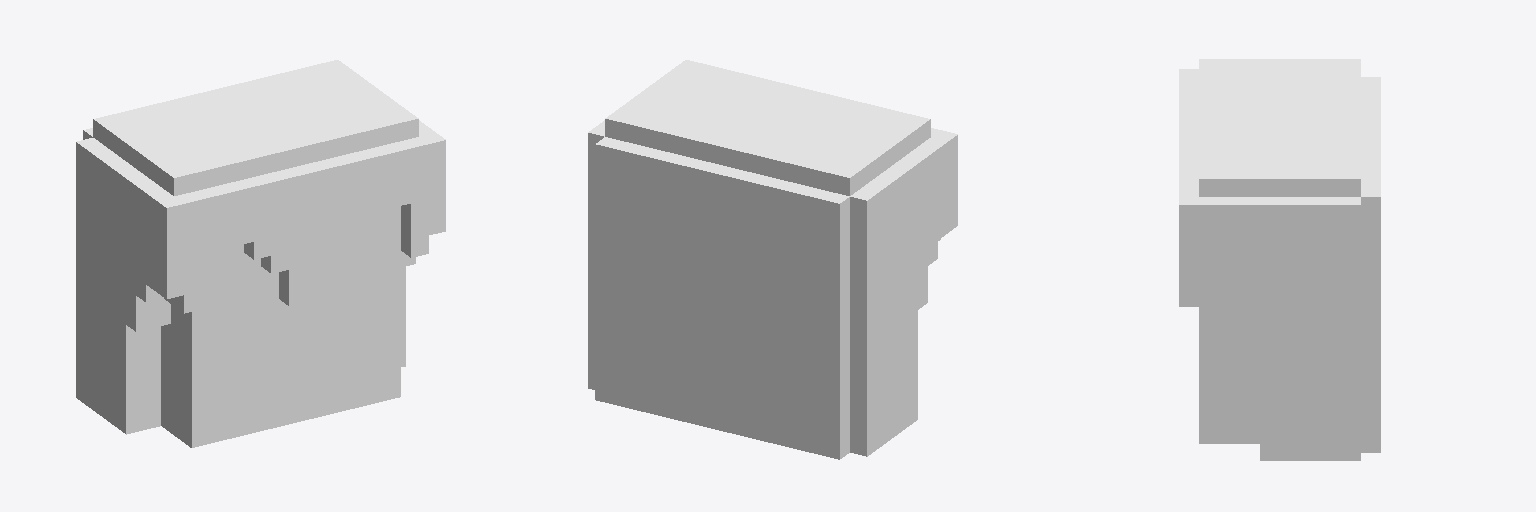
Rendered from cabeza.obj.
3 views of the same model, side by side, from view 1: azimuth 30°, elevation 25°; view 2: azimuth 150°, elevation 25°; view 3: azimuth 270°, elevation 25° (orthographic).
Parts seen in each view (by area): view 1: cabeza; view 2: cabeza; view 3: cabeza.
Part boxes in pixels (x1,y1,x2,y2): cabeza: (76, 60, 445, 447); cabeza: (588, 60, 957, 459); cabeza: (1179, 59, 1380, 460).
Size of the model in its own units: 1.6 by 1.5 by 1.